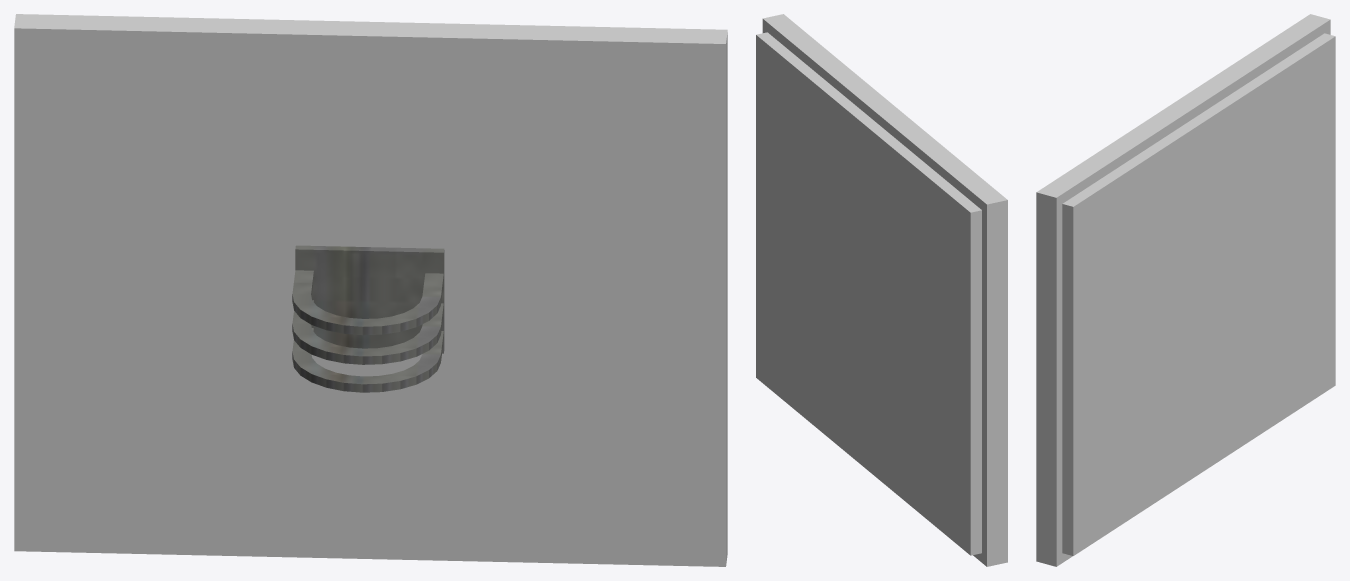
The model's file is leitor-rfid.fbx.
3 views of the same model, side by side, from view 1: azimuth 30°, elevation 25°; view 2: azimuth 150°, elevation 25°; view 3: azimuth 270°, elevation 25° (orthographic). The views are drawn at different scales.
Visible parts, largest first — view 1: Componente_17_1, Componente_1_1, Al_a1, Al_a3, Al_a2; view 2: Componente_17_1; view 3: Componente_17_1.
Boxes of the visible parts, bbox=[...] form: Componente_17_1: bbox=[14, 14, 727, 566]; Componente_1_1: bbox=[295, 245, 444, 353]; Al_a1: bbox=[292, 270, 443, 335]; Al_a3: bbox=[292, 300, 443, 364]; Al_a2: bbox=[292, 328, 443, 392]; Componente_17_1: bbox=[756, 14, 1007, 566]; Componente_17_1: bbox=[1036, 14, 1335, 566].
Bounding box in the file's own units: 663 × 621 × 456.
